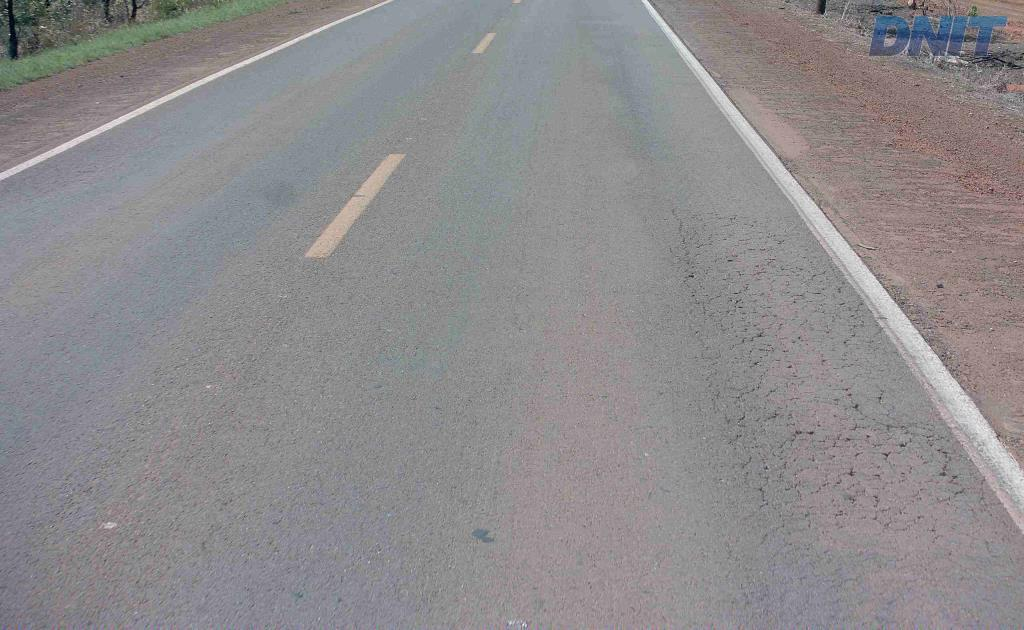crack: (670, 208, 712, 290), (707, 283, 749, 335), (719, 409, 749, 450)
